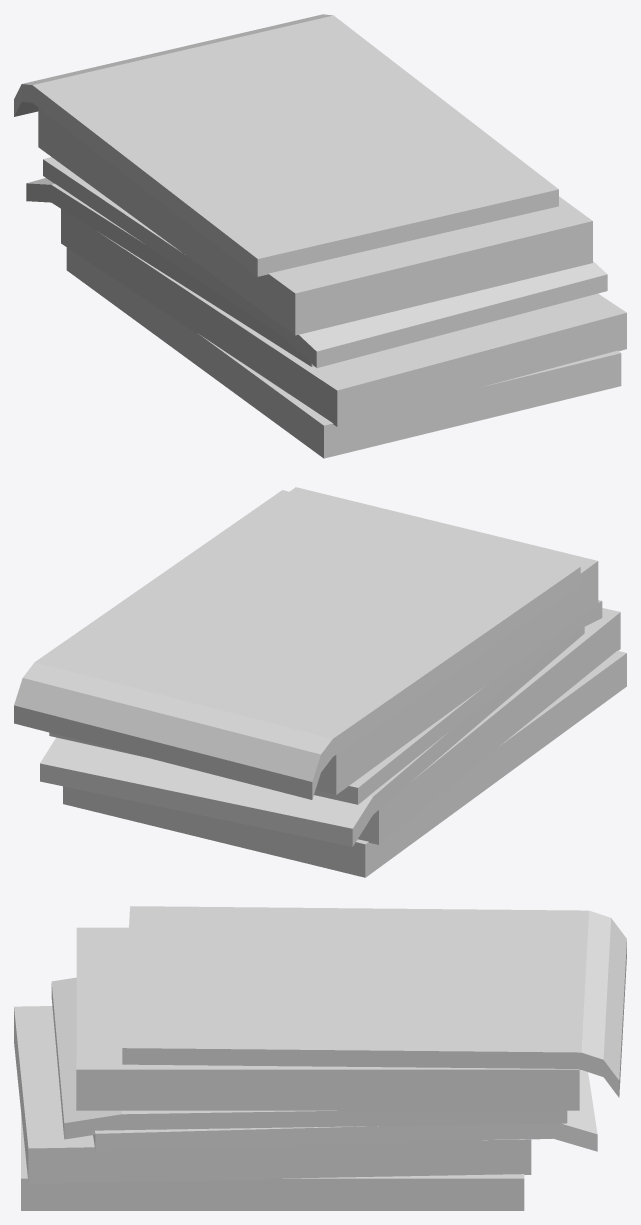
The model's file is Office_Files_B.obj.
3 views of the same model, one above another, from view 1: azimuth 30°, elevation 25°; view 2: azimuth 150°, elevation 25°; view 3: azimuth 270°, elevation 25° (orthographic). The views are drawn at different scales.
Parts seen in each view (by area): view 1: Office_Files_B; view 2: Office_Files_B; view 3: Office_Files_B.
Boxes of the visible parts, box(x1,y1,x2,y2) form: Office_Files_B: box(14, 14, 626, 458); Office_Files_B: box(14, 487, 626, 877); Office_Files_B: box(14, 906, 626, 1210).
Bounding box in the file's own units: 0.2667 × 0.1263 × 0.4447.
